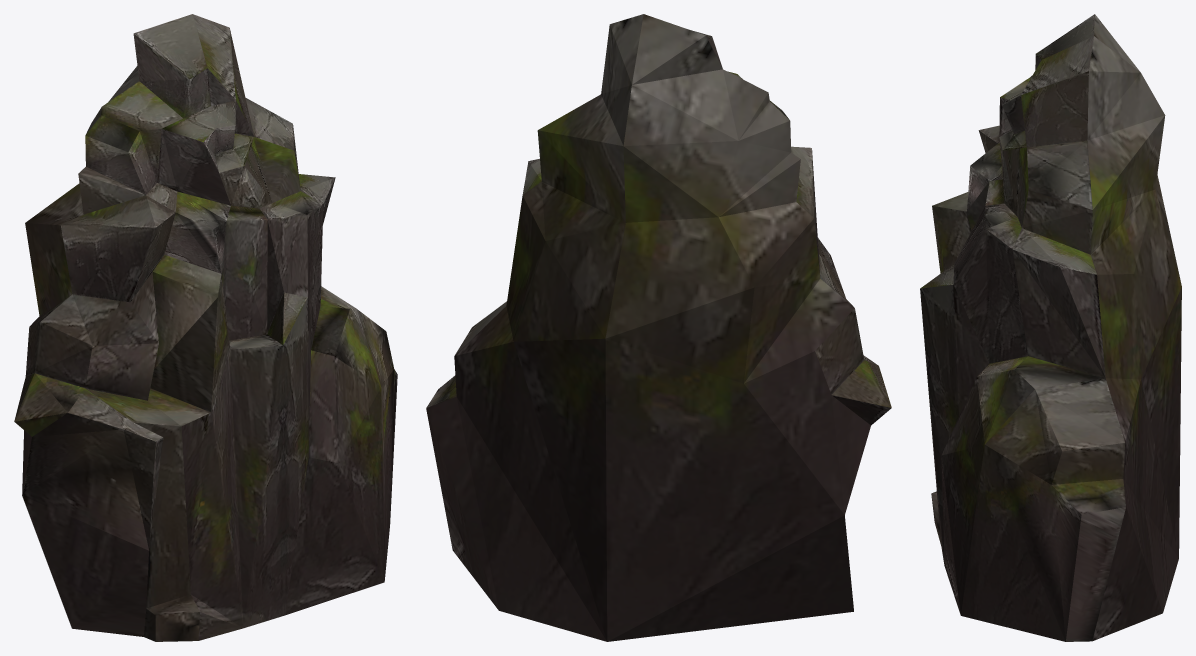
File: shitou1_1.fbx
3 views of the same model, side by side, from view 1: azimuth 30°, elevation 25°; view 2: azimuth 150°, elevation 25°; view 3: azimuth 270°, elevation 25° (orthographic). The views are drawn at different scales.
Visible parts, largest first — view 1: shitou1_1; view 2: shitou1_1; view 3: shitou1_1.
Part boxes in pixels (x1,y1,x2,y2): shitou1_1: (14,14,397,641); shitou1_1: (426,14,891,641); shitou1_1: (920,14,1181,641).
Size of the model in its own units: 45.26 by 59.53 by 26.62.
Materials: 1 (1 with a texture image).
